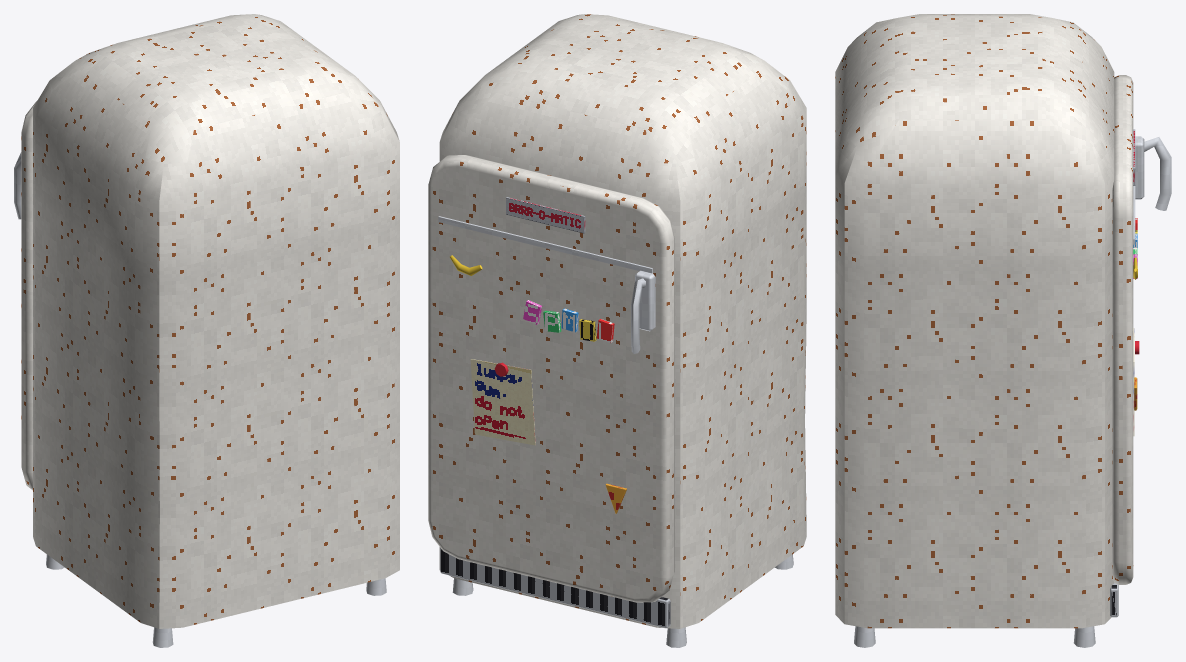
Rendered from s_fridge.glb.
The picture shows the model from 3 angles, left to right: view 1: azimuth 30°, elevation 25°; view 2: azimuth 150°, elevation 25°; view 3: azimuth 270°, elevation 25°; orthographic projection. The views are drawn at different scales.
Parts seen in each view (by area): view 1: s_fridge_mesh; view 2: s_fridge_mesh; view 3: s_fridge_mesh.
Boxes of the visible parts, x1,y1,x2,y2 form: s_fridge_mesh: (14, 14, 399, 647); s_fridge_mesh: (428, 14, 806, 647); s_fridge_mesh: (835, 14, 1171, 647).
Size of what is drawn, in the model's own units: 0.72 by 1.41 by 0.7958.
3 materials, 3 textured.
